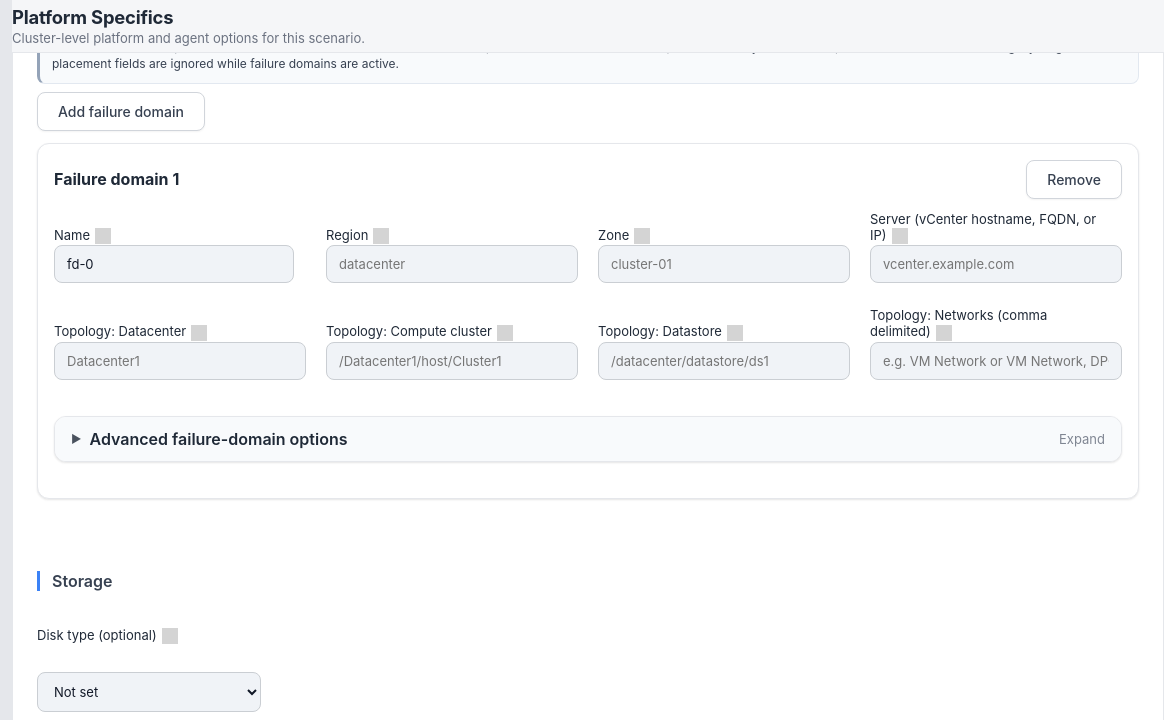
Scenario: R5: comma-delimited Networks field editing contract › typing a multi-item comma list preserves exactly what the user typed
The width and height of the screenshot is (1164, 720).
(page scrolled)
Click the field with placeholder "e.g. VM Network or VM Network, DPG-1".
click(996, 360)  # box [870, 342, 1122, 380]
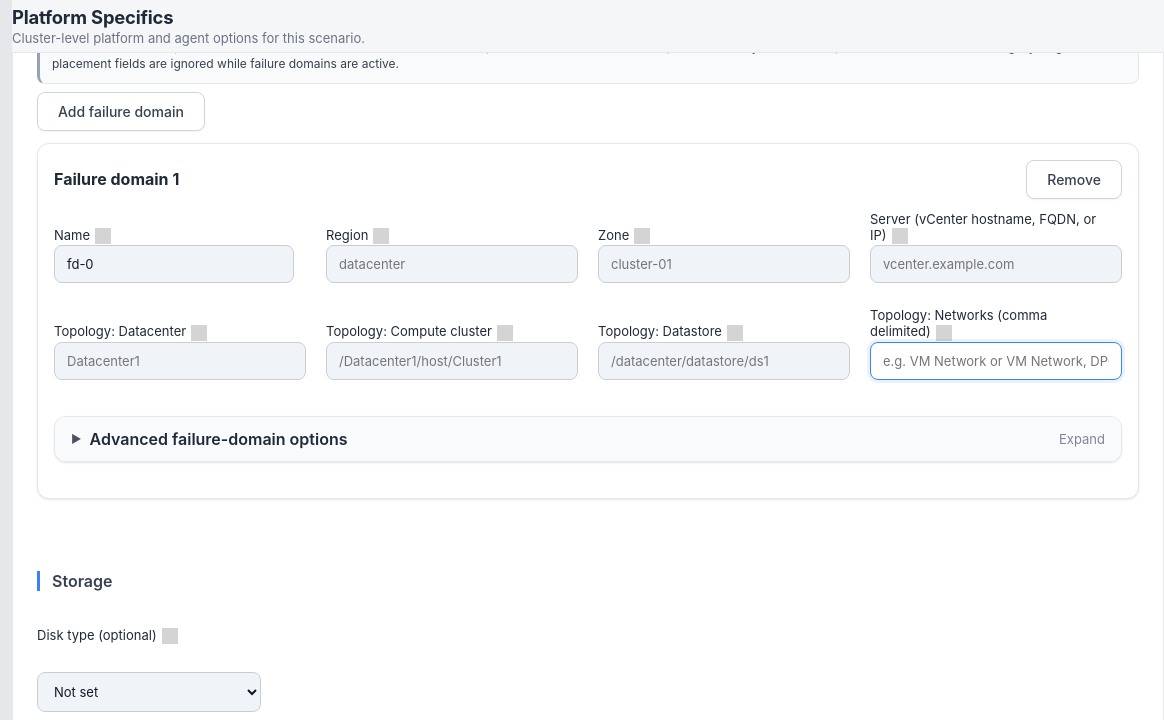
Type keys "ergseg, rtyertyer,"
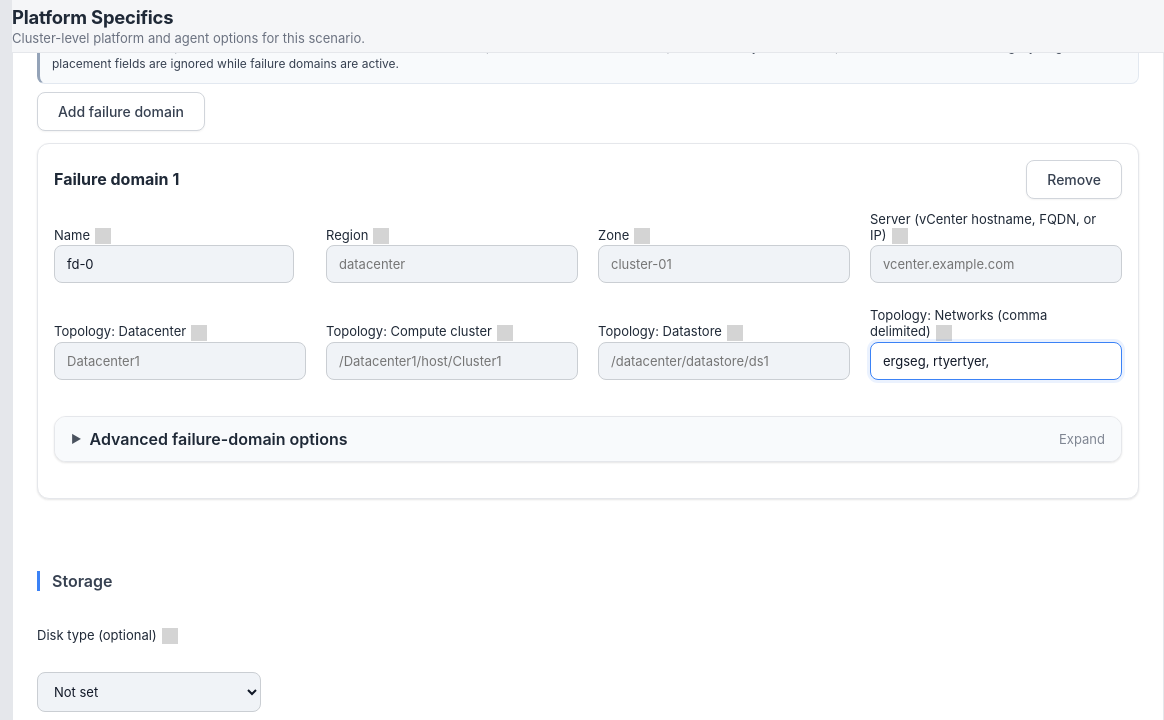
Expected: the field with placeholder "e.g. VM Network or VM Network, DPG-1" holds "ergseg, rtyertyer,", [870, 342, 1122, 380]
